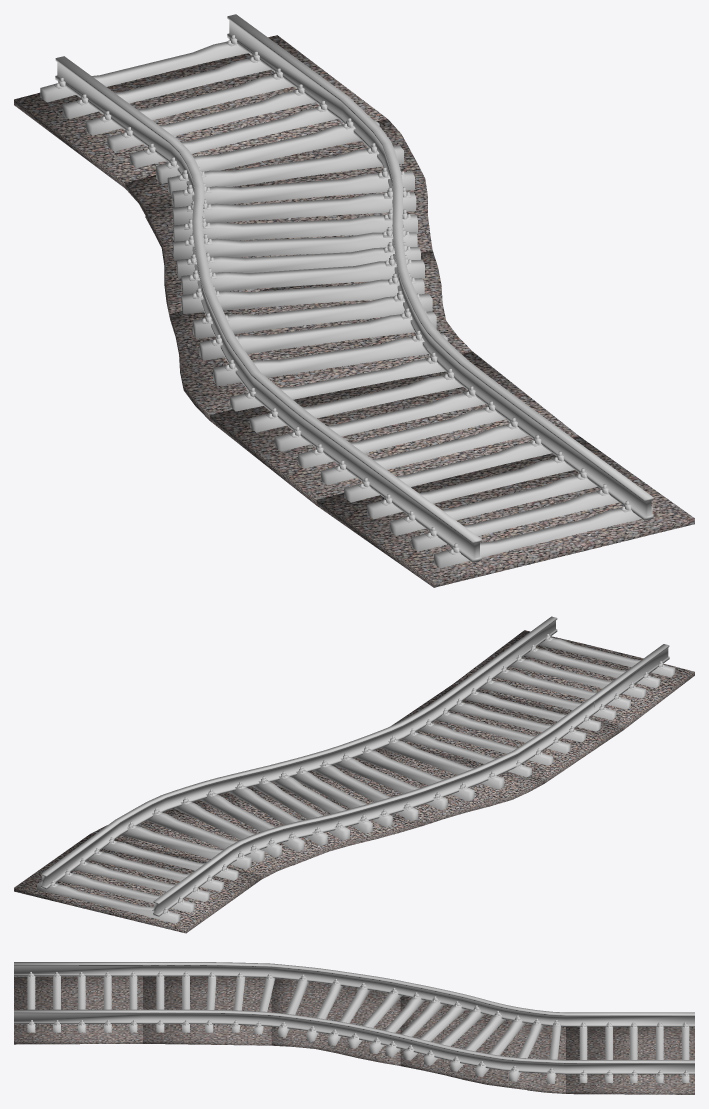
File: track_straigh_concrete_right1.fbx
3 views of the same model, one above another, from view 1: azimuth 30°, elevation 25°; view 2: azimuth 150°, elevation 25°; view 3: azimuth 270°, elevation 25° (orthographic). The views are drawn at different scales.
Visible parts, largest first — view 1: concrete, ground, rails; view 2: concrete, ground, rails; view 3: ground, rails, concrete.
Boxes of the visible parts, bbox=[...] form: concrete: bbox=[40, 42, 652, 568]; ground: bbox=[14, 35, 694, 587]; rails: bbox=[53, 14, 653, 562]; concrete: bbox=[37, 637, 674, 923]; ground: bbox=[14, 630, 694, 933]; rails: bbox=[40, 616, 669, 916]; ground: bbox=[14, 976, 694, 1094]; rails: bbox=[14, 962, 694, 1076]; concrete: bbox=[27, 976, 689, 1083].
Bounding box in the file's own units: 4.83 × 0.381 × 11.23.
